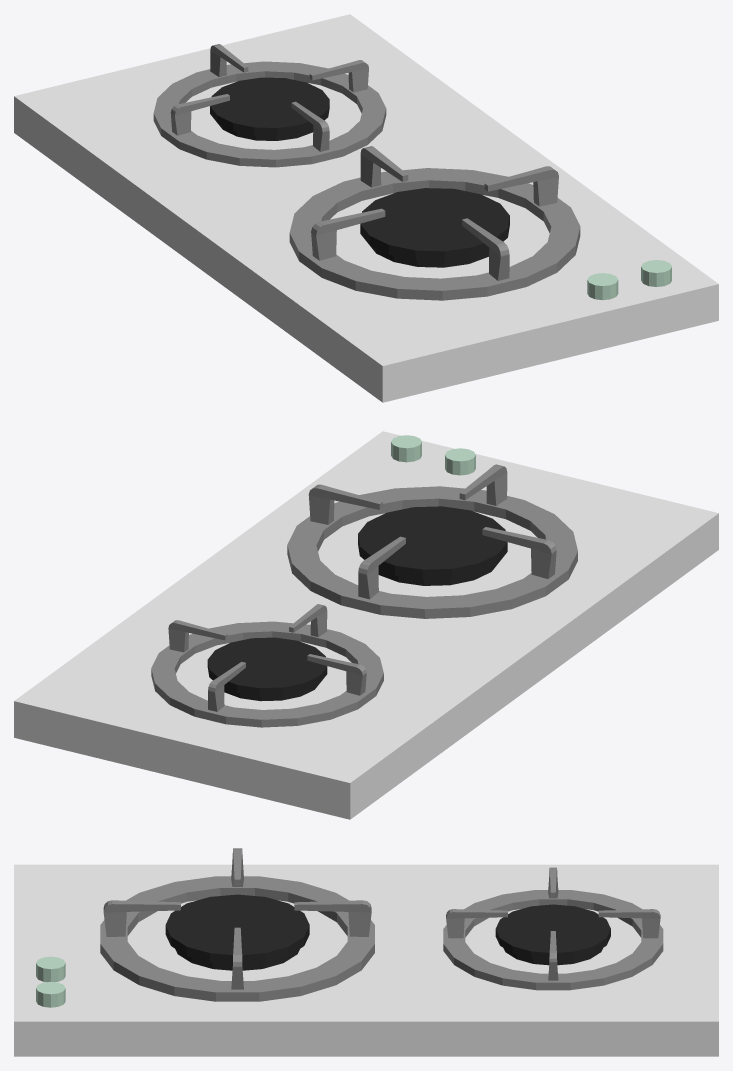
The model's file is asset_ocak_ikili.fbx.
3 views of the same model, one above another, from view 1: azimuth 30°, elevation 25°; view 2: azimuth 150°, elevation 25°; view 3: azimuth 270°, elevation 25° (orthographic). The views are drawn at different scales.
Parts seen in each view (by area): view 1: ocak_ikili; view 2: ocak_ikili; view 3: ocak_ikili.
Boxes of the visible parts, bbox=[...] form: ocak_ikili: bbox=[14, 14, 718, 402]; ocak_ikili: bbox=[14, 431, 718, 819]; ocak_ikili: bbox=[14, 848, 718, 1056].
Bounding box in the file's own units: 57.6 × 13.11 × 109.
Materials: 4 (4 with a texture image).
